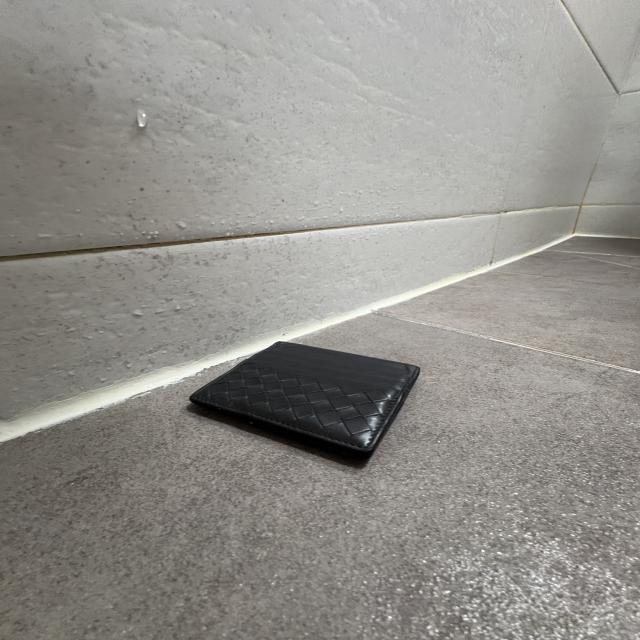wallet: (188, 338, 424, 469)
